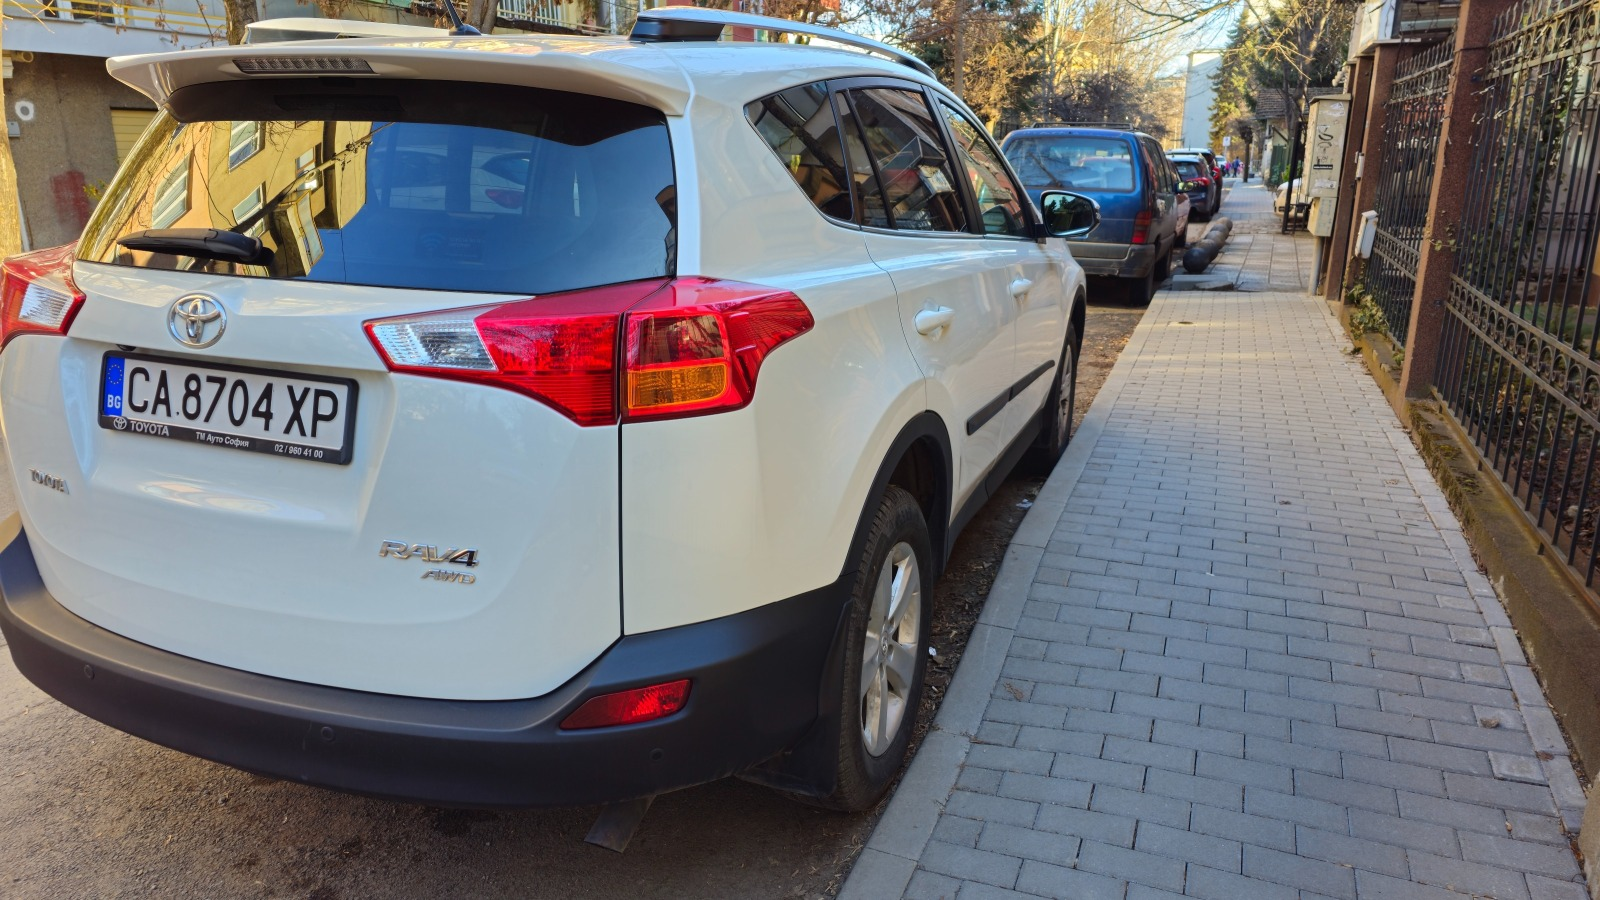registration_plate: (102, 353, 357, 468)
